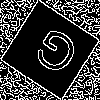G: (25, 25, 83, 86)
